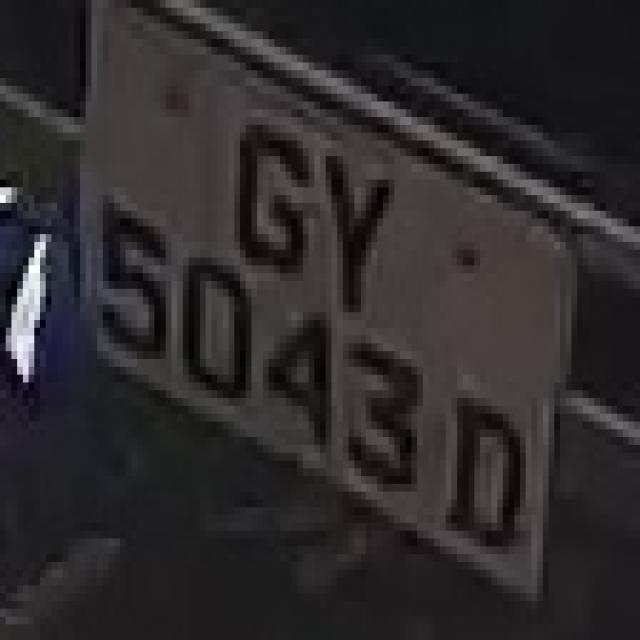0: (171, 226, 246, 422)
3: (348, 296, 428, 499)
4: (252, 265, 348, 453)
5: (92, 180, 172, 359)
D: (440, 343, 526, 578)
G: (217, 86, 314, 281)
X: (320, 125, 400, 312)
